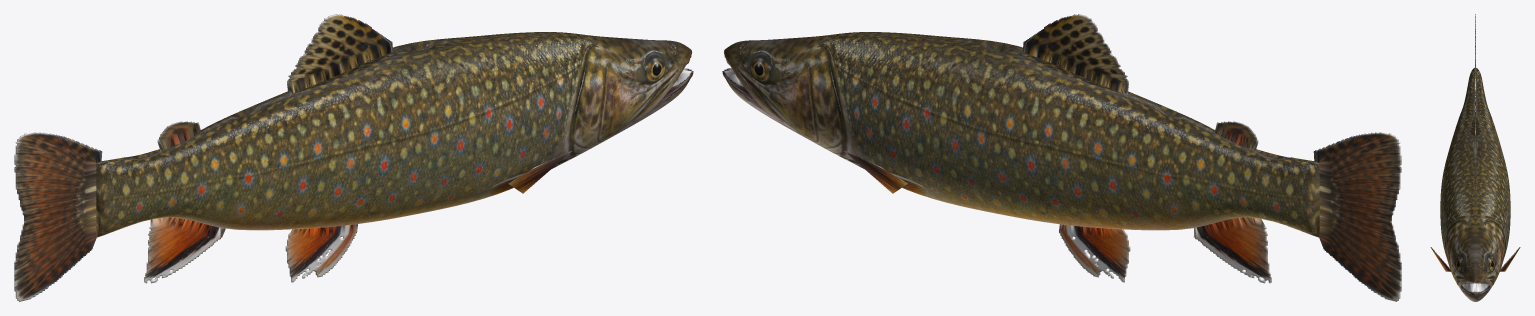
File: brook_trout.glb
3 views of the same model, side by side, from view 1: azimuth 30°, elevation 25°; view 2: azimuth 150°, elevation 25°; view 3: azimuth 270°, elevation 25° (orthographic). The views are drawn at different scales.
Parts seen in each view (by area): view 1: brook_trout_realistic.003; view 2: brook_trout_realistic.003; view 3: brook_trout_realistic.003.
Part boxes in pixels (box(x1,y1,x2,y2)): brook_trout_realistic.003: box(14, 14, 693, 301); brook_trout_realistic.003: box(722, 14, 1401, 301); brook_trout_realistic.003: box(1430, 14, 1520, 301).
Size of the model in its own units: 1 by 0.3639 by 0.1759.
Materials: 3 (3 with a texture image).
